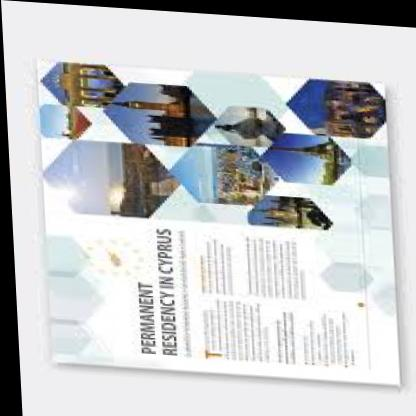Paper: (32, 35, 416, 403)
